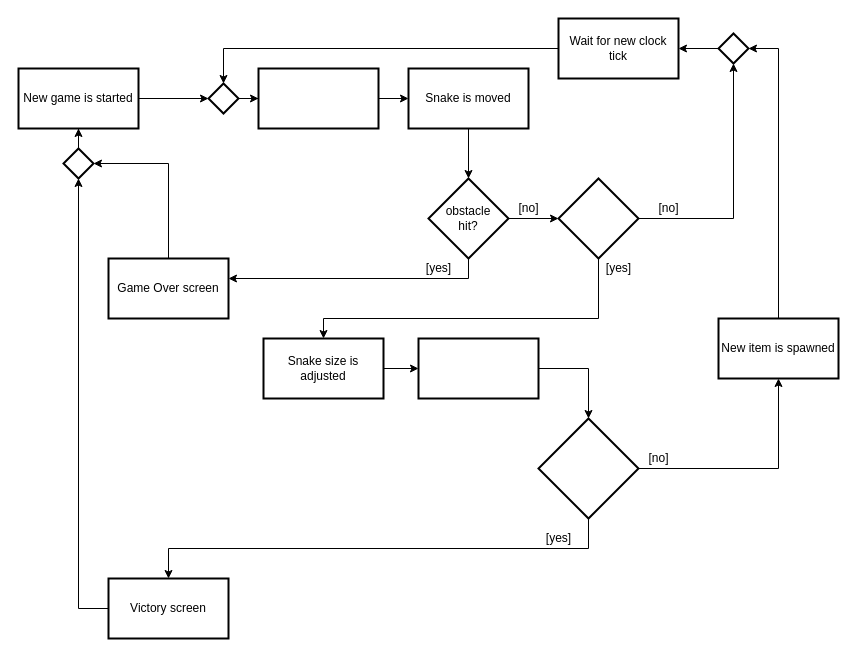
The diagram is 856 pixels wide and 656 high, and some of its shapes have lost their labels. The shapes that lost their labels are listed below. From the top down, each one's box as (x1, y1, x2, y2) in pixels, then its label:
(257, 67, 379, 129): Clock tick starts
(557, 177, 639, 259): item taken?
(417, 337, 539, 399): Score is adjusted
(537, 417, 639, 519): maximum size achieved?
